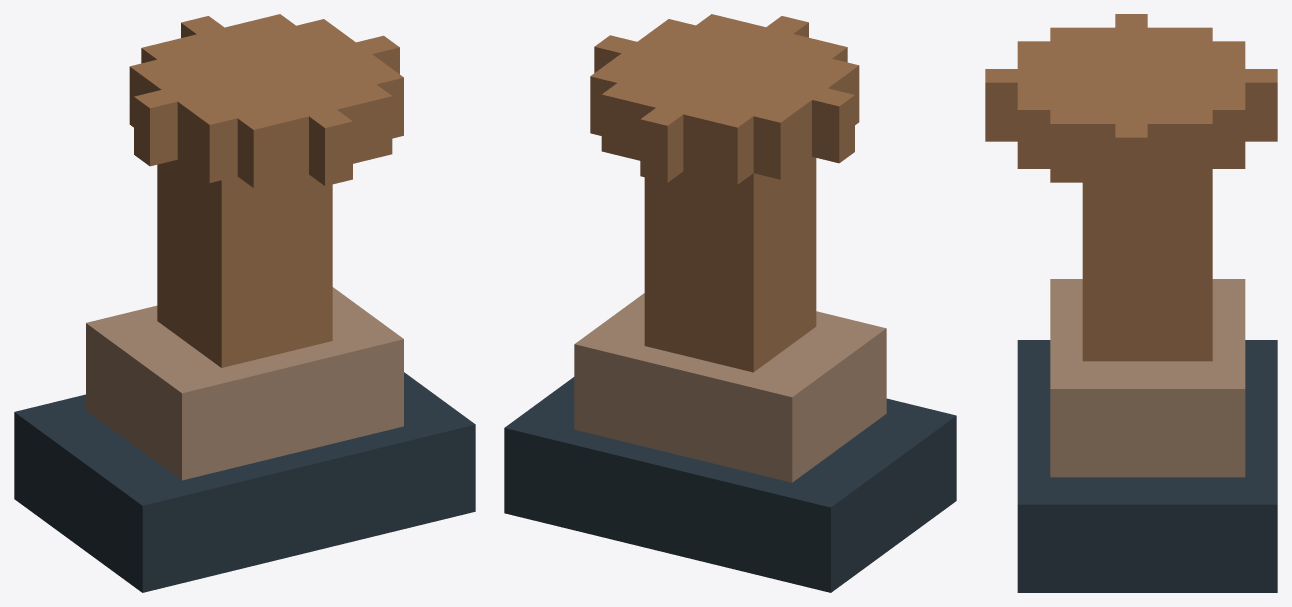
The model's file is publishing-11.glb.
The picture shows the model from 3 angles, left to right: view 1: azimuth 30°, elevation 25°; view 2: azimuth 150°, elevation 25°; view 3: azimuth 270°, elevation 25°; orthographic projection. The views are drawn at different scales.
Parts seen in each view (by area): view 1: Publisher stamp; view 2: Publisher stamp; view 3: Publisher stamp.
Part boxes in pixels (left/top/right/bottom): Publisher stamp: left=14, top=14, right=475, bottom=592; Publisher stamp: left=504, top=14, right=956, bottom=592; Publisher stamp: left=985, top=14, right=1277, bottom=592.
Size of the model in its own units: 0.96 by 1.2 by 0.72.
